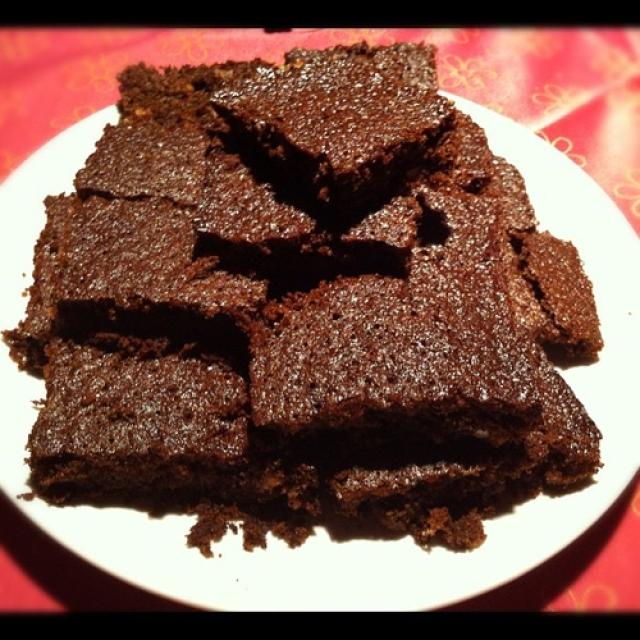蛋糕甜品: (13, 40, 621, 604)
